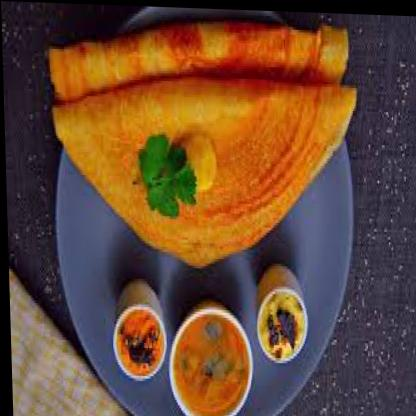dosa: (51, 68, 358, 269), (48, 11, 348, 107)
